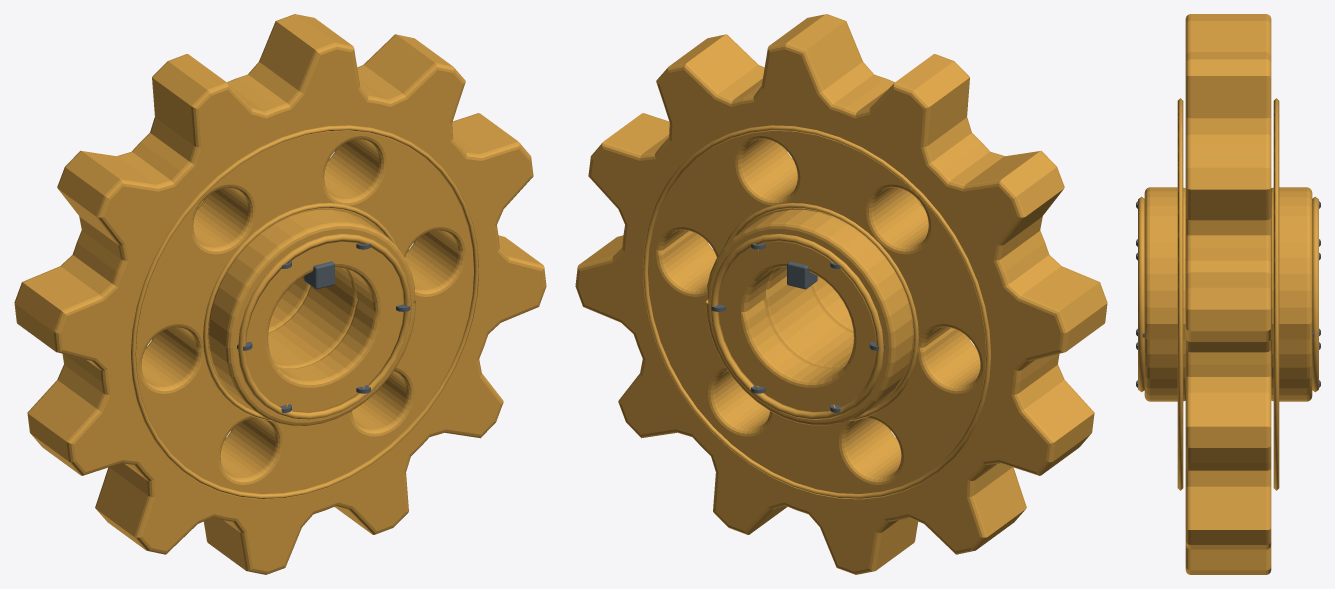
Rendered from workshop-cog.glb.
The picture shows the model from 3 angles, left to right: view 1: azimuth 30°, elevation 25°; view 2: azimuth 150°, elevation 25°; view 3: azimuth 270°, elevation 25°; orthographic projection. The views are drawn at different scales.
Parts seen in each view (by area): view 1: brass, steelInset; view 2: brass, steelInset; view 3: brass.
Part boxes in pixels (left/top/right/bottom): brass: left=14, top=14, right=546, bottom=574; steelInset: left=237, top=243, right=411, bottom=412; brass: left=575, top=14, right=1107, bottom=574; steelInset: left=710, top=243, right=884, bottom=412; brass: left=1138, top=14, right=1318, bottom=574.
Bounding box in the file's own units: 0.2724 × 0.2724 × 0.0906.
